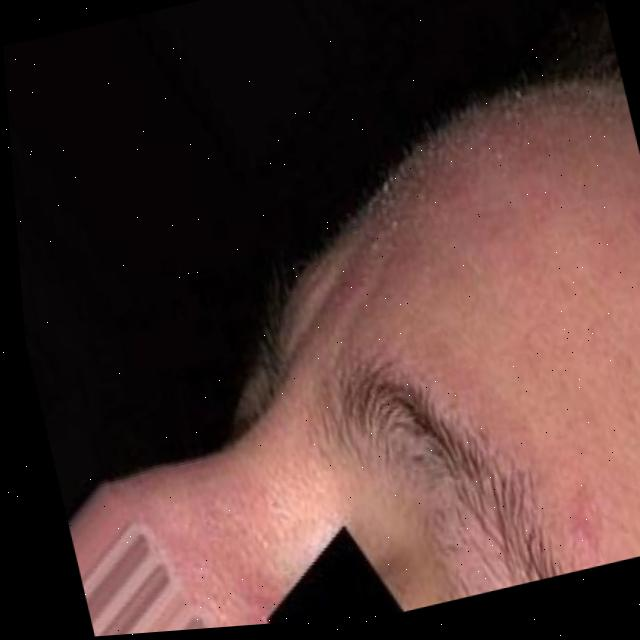Rosacea: (422, 109, 640, 578), (151, 447, 310, 631)
